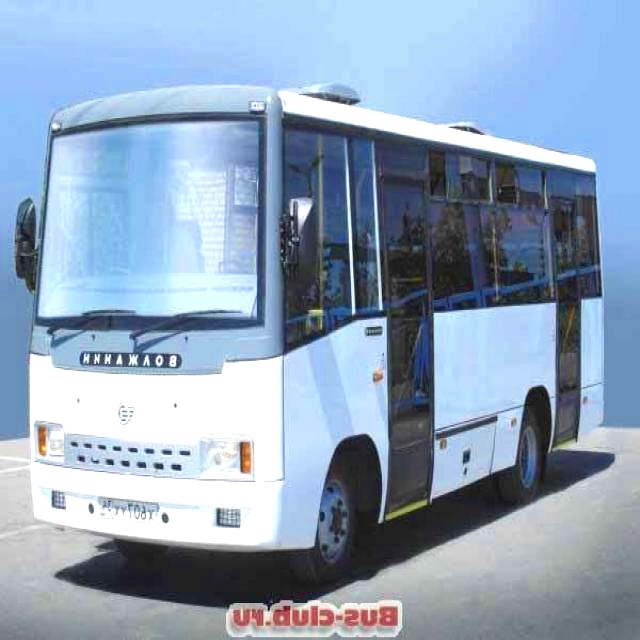bus: (15, 52, 633, 576)
